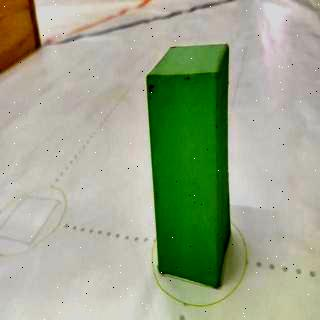greenbox: (146, 43, 232, 290)
